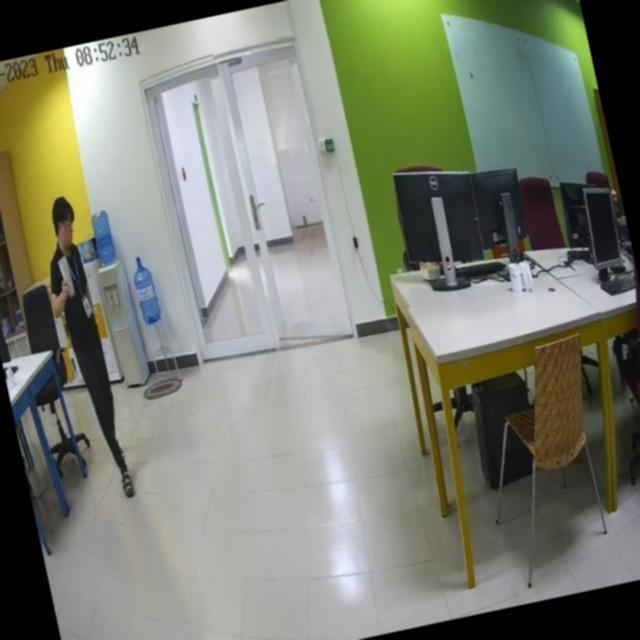person: (30, 195, 140, 508)
